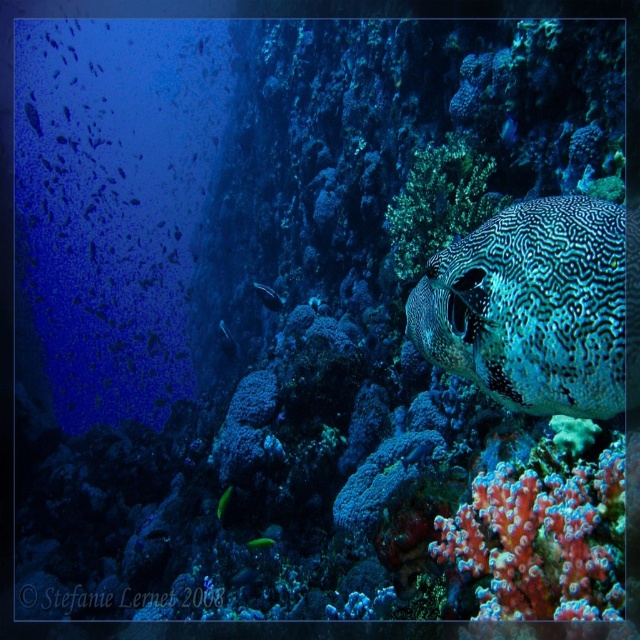Fish: (13, 18, 627, 621)
